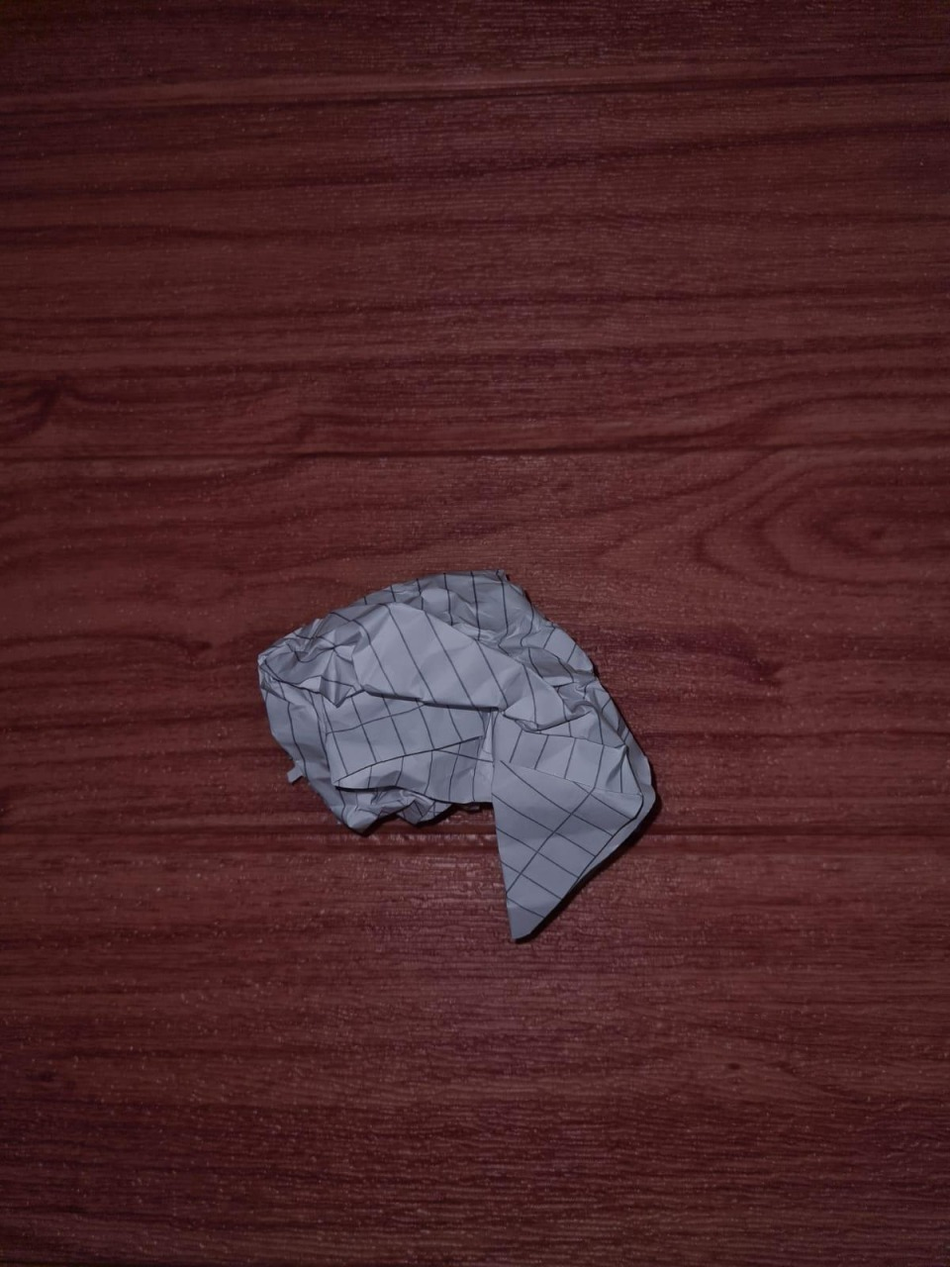paper: (267, 565, 634, 919)
